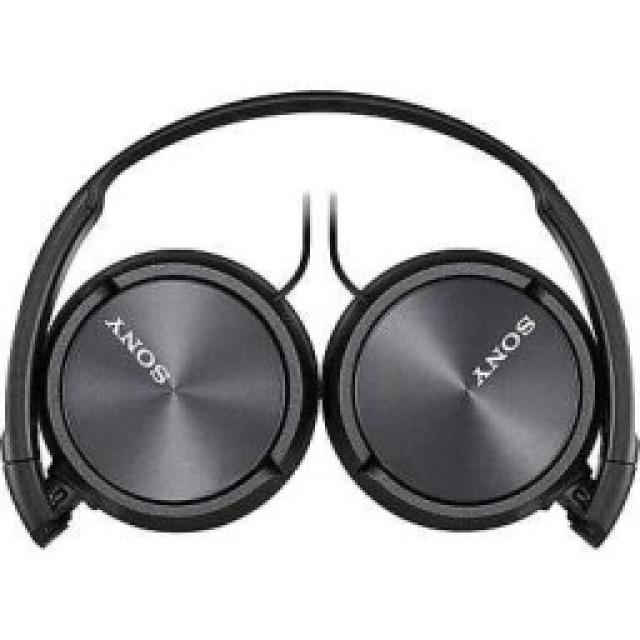headphones: (0, 85, 638, 550)
